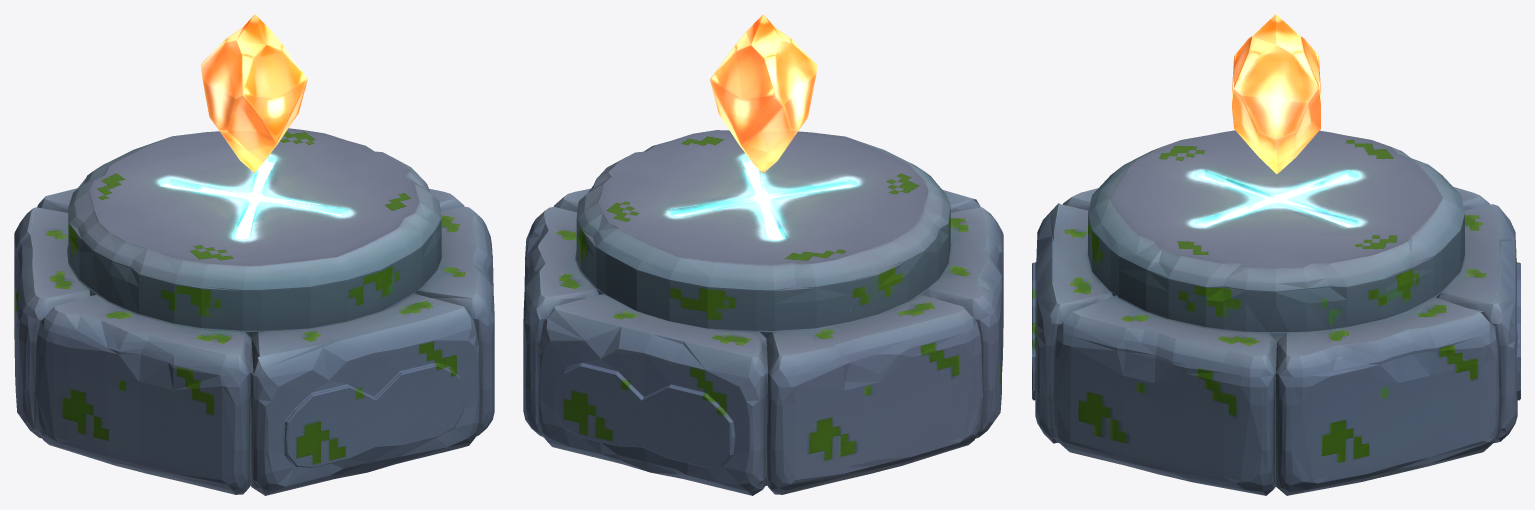
The model's file is Meshy_AI_Plataforma_con_un_Cri_0703115108_texture.glb.
3 views of the same model, side by side, from view 1: azimuth 30°, elevation 25°; view 2: azimuth 150°, elevation 25°; view 3: azimuth 270°, elevation 25° (orthographic).
Size of the model in its own units: 1.9 by 1.57 by 1.78.
1 material, 1 textured.
